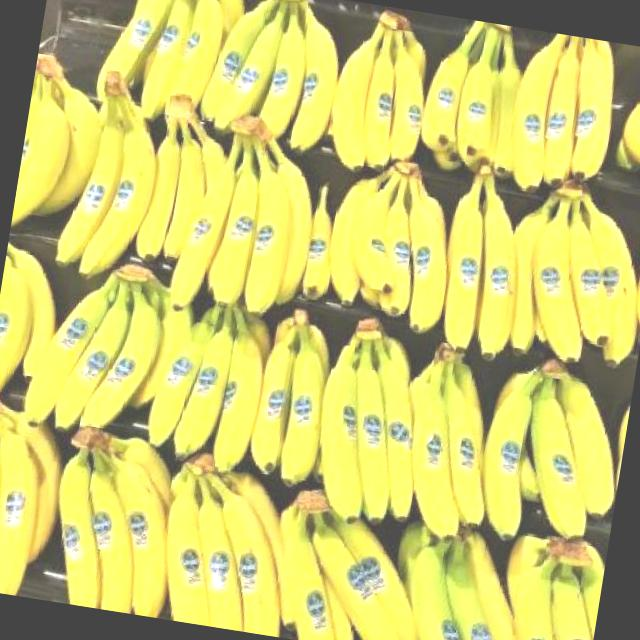Banana: (162, 105, 327, 328), (469, 359, 634, 551), (146, 452, 314, 639), (18, 251, 180, 440), (35, 423, 187, 619), (303, 312, 432, 536), (253, 484, 438, 640), (498, 177, 640, 375), (382, 337, 506, 546), (318, 151, 465, 327), (50, 68, 167, 280), (195, 0, 348, 158), (144, 289, 278, 465), (10, 46, 114, 244), (430, 162, 534, 356), (504, 29, 626, 194), (373, 512, 529, 640), (92, 0, 250, 123), (324, 7, 438, 174), (245, 304, 338, 491), (414, 18, 528, 166), (0, 388, 70, 599), (489, 527, 609, 640), (0, 243, 68, 404), (610, 70, 640, 197)
